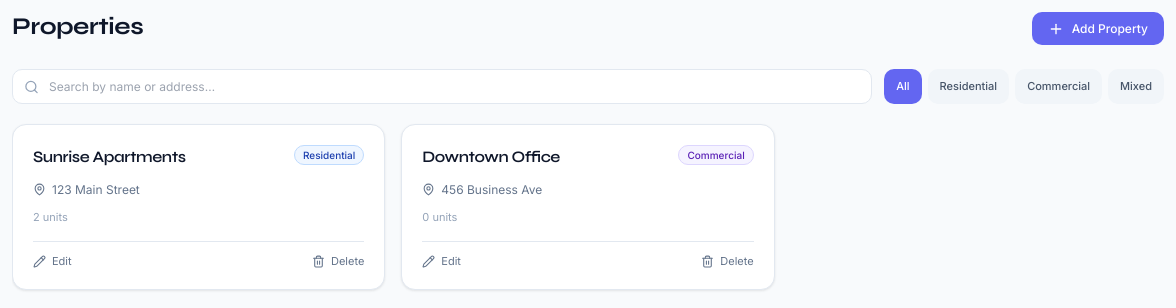
PropertiesList › filters properties by clicking a type filter button
What coordinates should you click on to do the following:
click the button "commercial"
I would click on:
 (1059, 86)
Its box is [1015, 69, 1102, 104].
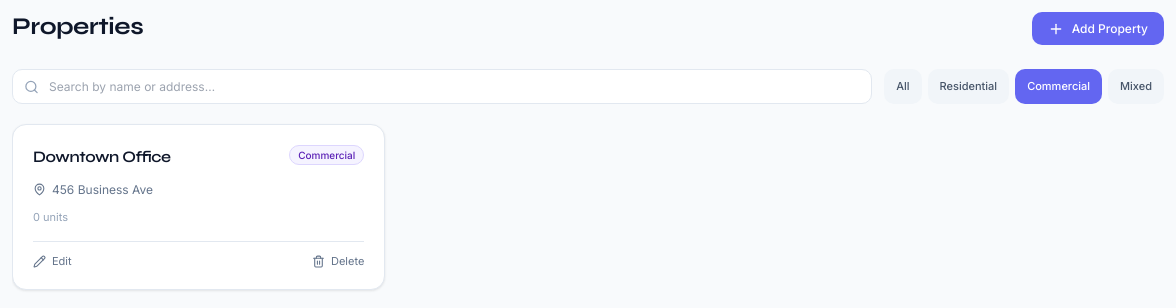
Check: the heading "Downtown Office" is shown, box [33, 145, 179, 169]
Check: the heading "Sunrise Apartments" is gone
